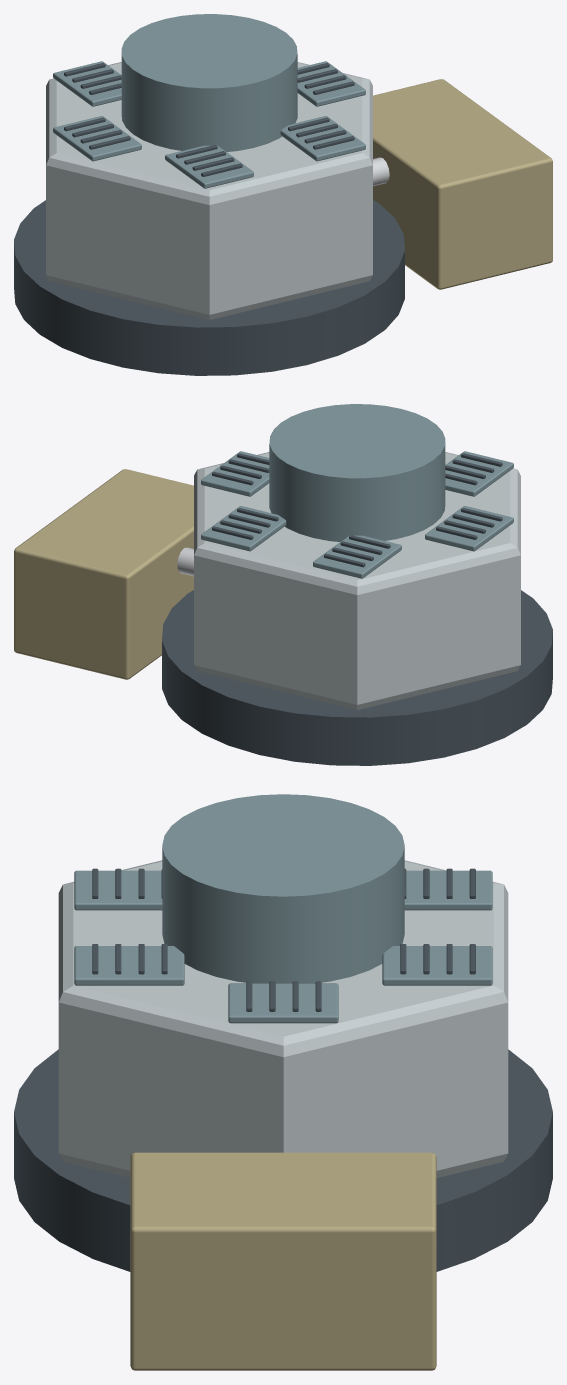
The picture shows the model from 3 angles, top to bottom: view 1: azimuth 30°, elevation 25°; view 2: azimuth 150°, elevation 25°; view 3: azimuth 270°, elevation 25°; orthographic projection. The views are drawn at different scales.
Visible parts, largest first — view 1: mining-outpost; view 2: mining-outpost; view 3: mining-outpost.
Part boxes in pixels (box(x1,y1,x2,y2)): mining-outpost: box(14, 14, 552, 375); mining-outpost: box(14, 404, 552, 765); mining-outpost: box(14, 794, 552, 1370).
Bounding box in the file's own units: 5.95 × 3 × 4.4.
